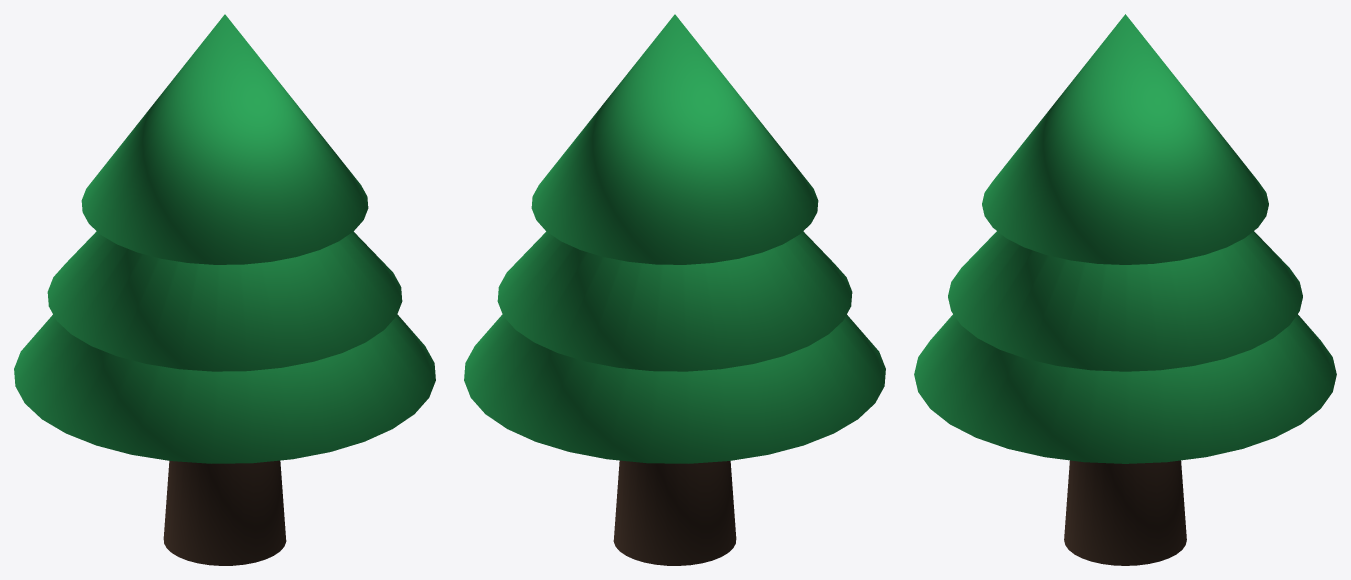
Rendered from PineTree.fbx.
3 views of the same model, side by side, from view 1: azimuth 30°, elevation 25°; view 2: azimuth 150°, elevation 25°; view 3: azimuth 270°, elevation 25° (orthographic).
Parts seen in each view (by area): view 1: PineTree; view 2: PineTree; view 3: PineTree.
Part boxes in pixels (left/top/right/bottom): PineTree: left=14, top=14, right=435, bottom=565; PineTree: left=464, top=14, right=885, bottom=565; PineTree: left=914, top=14, right=1336, bottom=565.
Bounding box in the file's own units: 531 × 728 × 531.
